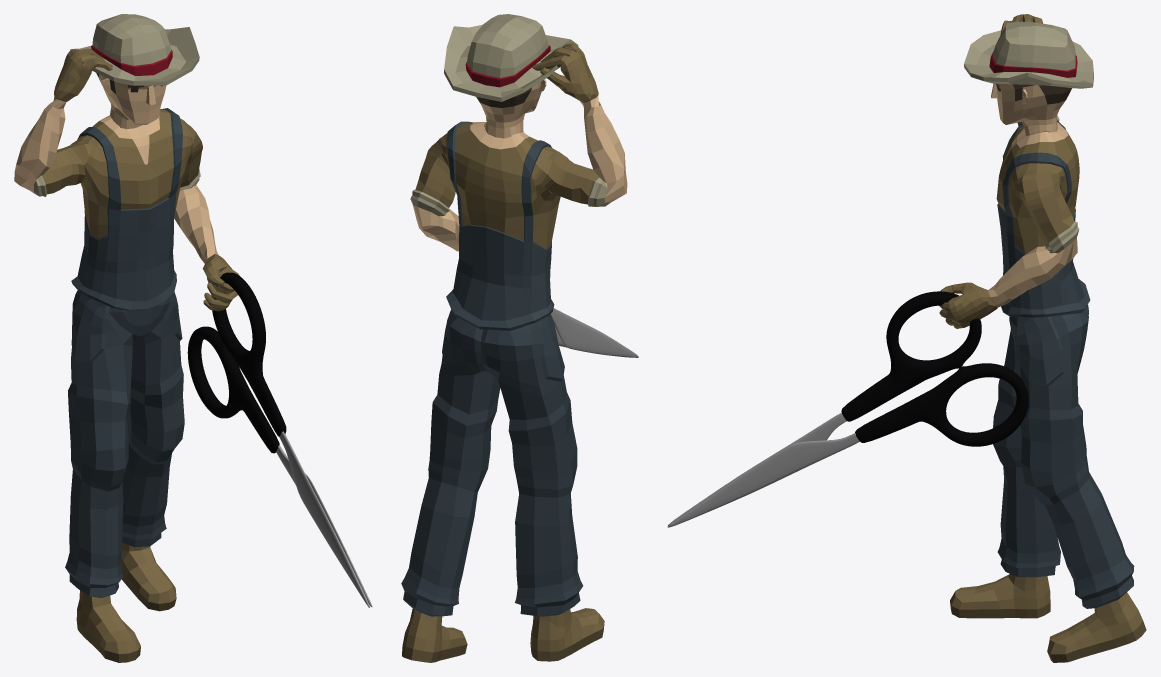
The model's file is Farmer_Closed_Scissors.fbx.
3 renders of one model, left to right at view 1: azimuth 30°, elevation 25°; view 2: azimuth 150°, elevation 25°; view 3: azimuth 270°, elevation 25°, orthographic. The views are drawn at different scales.
Parts seen in each view (by area): view 1: Farmer_Pants.002, Farmer_Body.002, Farmer_Head.002, scissors1.001, Farmer_Feet.002, scissors2.001; view 2: Farmer_Pants.002, Farmer_Body.002, Farmer_Head.002, Farmer_Feet.002, scissors1.001; view 3: Farmer_Pants.002, Farmer_Body.002, Farmer_Head.002, scissors2.001, Farmer_Feet.002, scissors1.001.
Part boxes in pixels (x1,y1,x2,y2): Farmer_Pants.002: (65,290,184,597); Farmer_Body.002: (14,48,239,311); Farmer_Head.002: (70,14,199,129); scissors1.001: (211,272,369,607); Farmer_Feet.002: (76,543,176,662); scissors2.001: (187,326,372,606); Farmer_Pants.002: (401,309,583,616); Farmer_Body.002: (410,43,627,330); Farmer_Head.002: (444,14,578,138); Farmer_Feet.002: (402,608,604,662); scissors1.001: (551,308,638,357); Farmer_Pants.002: (993,305,1134,608); Farmer_Body.002: (939,14,1090,328); Farmer_Head.002: (964,21,1093,135); scissors2.001: (667,363,1028,527); Farmer_Feet.002: (950,574,1146,662); scissors1.001: (668,291,981,525).
Bounding box in the file's own units: 0.6247 × 1.32 × 1.87.
